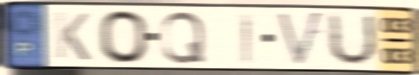I: (239, 11, 255, 65)
K: (52, 10, 93, 63)
O: (96, 8, 152, 66)
Q: (160, 10, 208, 66)
U: (326, 11, 380, 68)
V: (274, 9, 327, 69)
